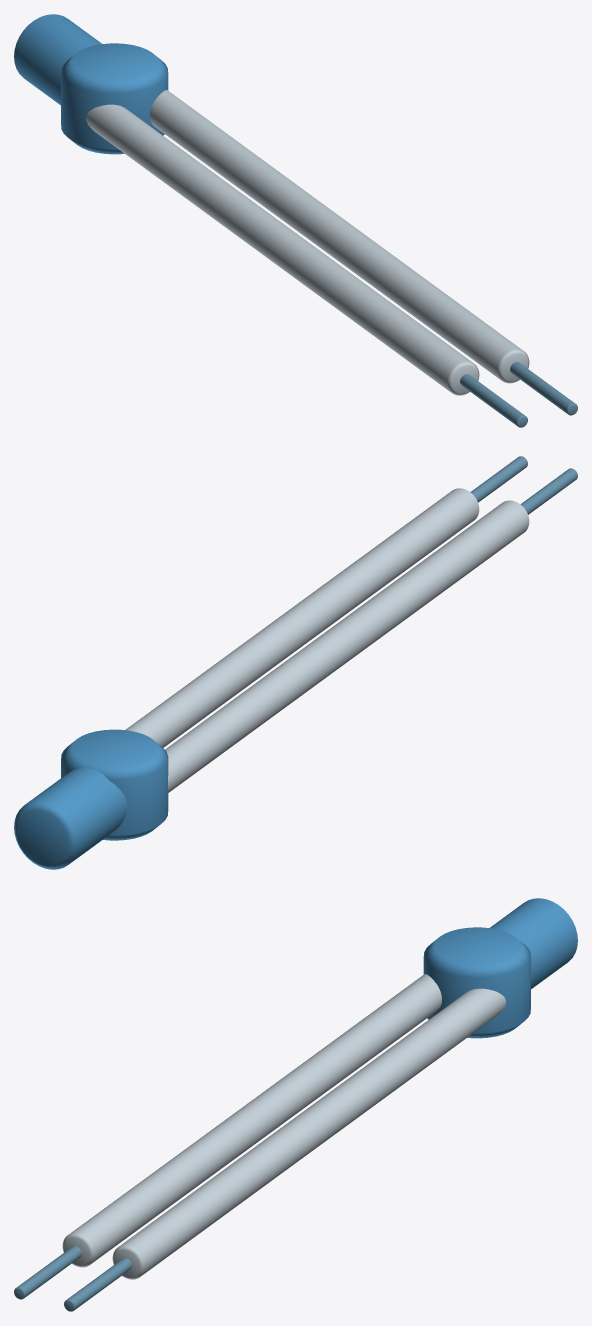
The model's file is compass.glb.
3 views of the same model, one above another, from view 1: azimuth 30°, elevation 25°; view 2: azimuth 150°, elevation 25°; view 3: azimuth 330°, elevation 25° (orthographic).
Visible parts, largest first — view 1: Needle_Leg, Pencil_Leg, Compass_Pivot, Compass_Grip, Needle_Tip, Pencil_Tip; view 2: Needle_Leg, Pencil_Leg, Compass_Grip, Compass_Pivot, Needle_Tip, Pencil_Tip; view 3: Pencil_Leg, Needle_Leg, Compass_Pivot, Compass_Grip, Needle_Tip, Pencil_Tip.
Boxes of the visible parts, x1,y1,x2,y2 form: Needle_Leg: [86, 104, 479, 395]; Pencil_Leg: [150, 90, 529, 383]; Compass_Pivot: [61, 43, 168, 154]; Compass_Grip: [14, 14, 101, 105]; Needle_Tip: [460, 374, 527, 427]; Pencil_Tip: [510, 362, 577, 415]; Needle_Leg: [165, 500, 529, 792]; Pencil_Leg: [125, 488, 479, 747]; Compass_Grip: [14, 768, 127, 869]; Compass_Pivot: [61, 729, 168, 840]; Needle_Tip: [520, 468, 577, 514]; Pencil_Tip: [470, 456, 527, 502]; Pencil_Leg: [112, 988, 505, 1279]; Needle_Leg: [62, 974, 441, 1267]; Compass_Pivot: [423, 927, 530, 1038]; Compass_Grip: [490, 898, 577, 989]; Needle_Tip: [14, 1246, 81, 1299]; Pencil_Tip: [64, 1258, 131, 1311].
Size of the model in its own units: 0.026 by 0.02 by 0.245.
